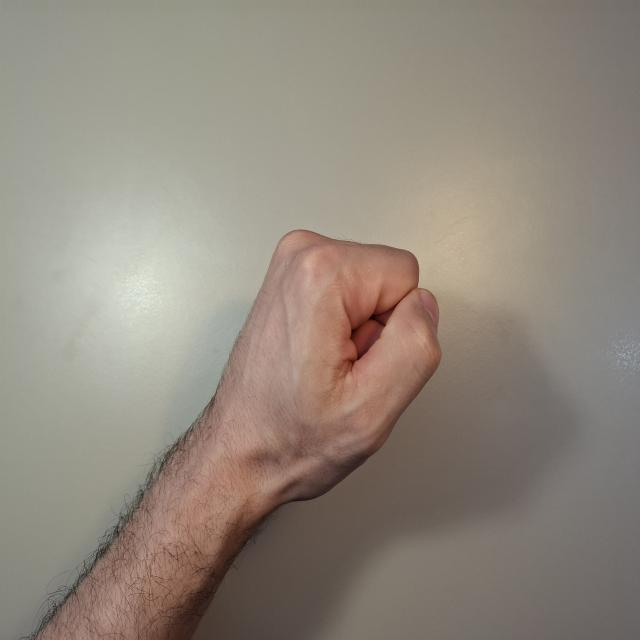glove_off: (212, 228, 444, 521)
